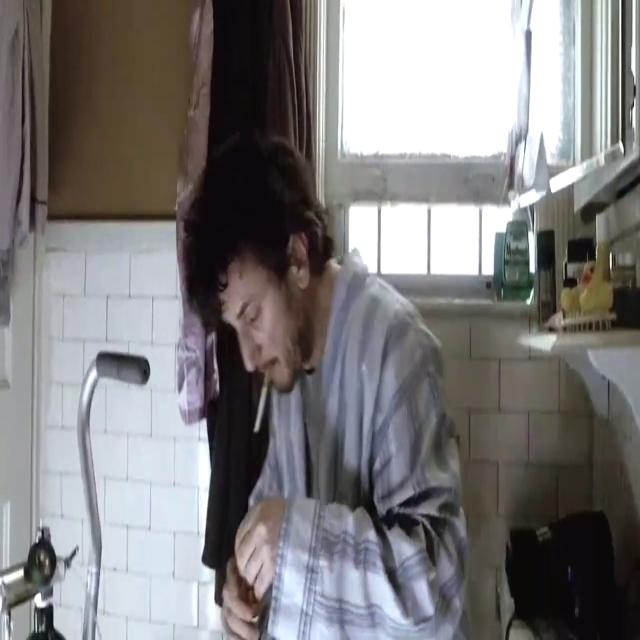Smooking: (245, 369, 280, 435)
